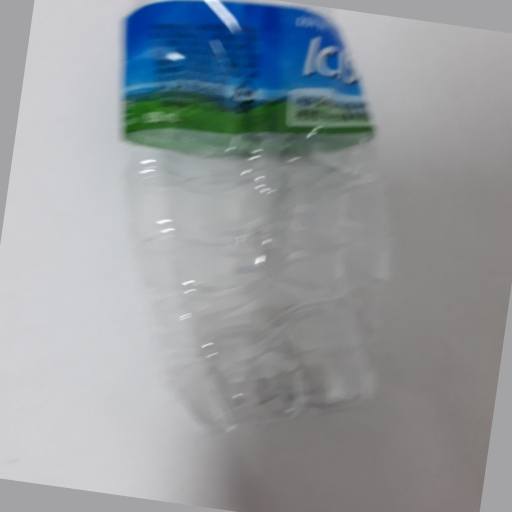Plastic_0: (108, 1, 395, 439)
